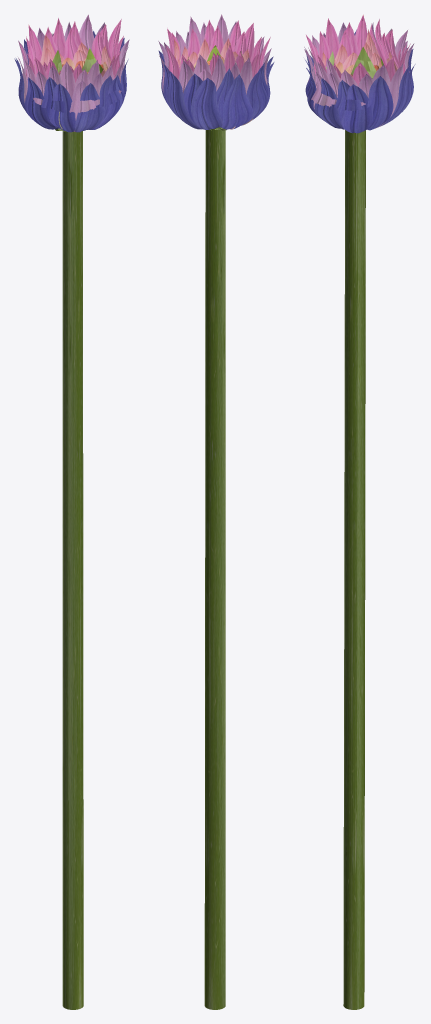
Rendered from flor_03.fbx.
The picture shows the model from 3 angles, left to right: view 1: azimuth 30°, elevation 25°; view 2: azimuth 210°, elevation 25°; view 3: azimuth 330°, elevation 25°; orthographic projection.
Visible parts, largest first — view 1: Plane.068; view 2: Plane.068; view 3: Plane.068.
Boxes of the visible parts, x1,y1,x2,y2 form: Plane.068: (14, 14, 129, 1009); Plane.068: (158, 14, 274, 1009); Plane.068: (304, 14, 415, 1009).
Bounding box in the file's own units: 50.71 × 468 × 47.1.
2 materials, 2 textured.
